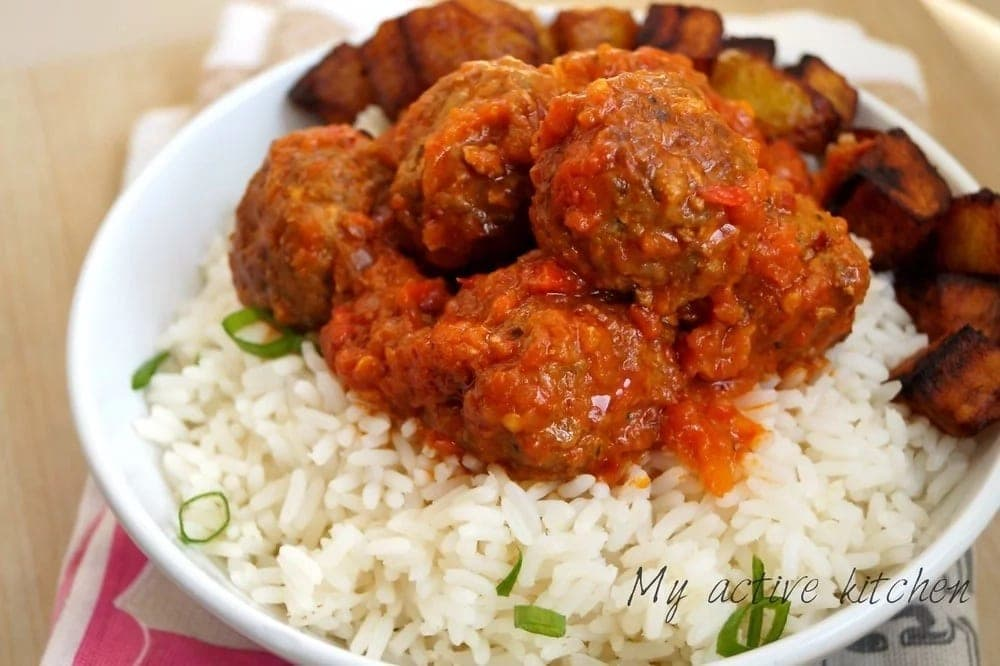meatballs: (248, 54, 852, 360)
plain rice: (157, 389, 533, 644)
